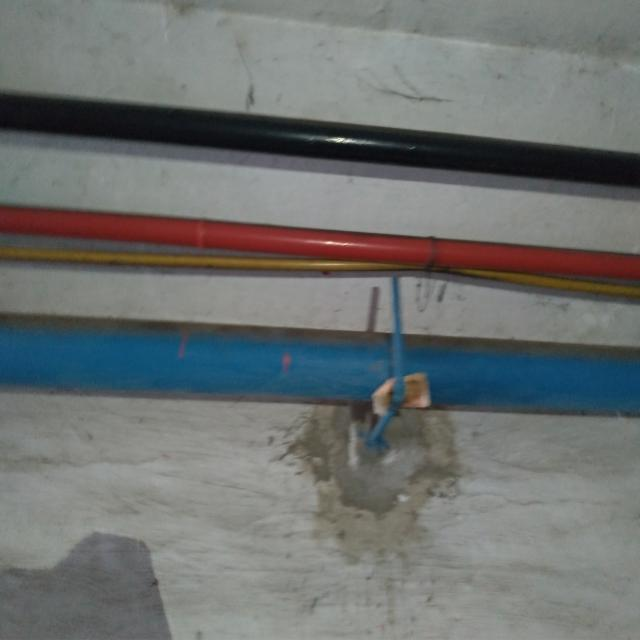gas: (12, 314, 633, 411), (6, 93, 640, 184), (7, 207, 637, 278)
